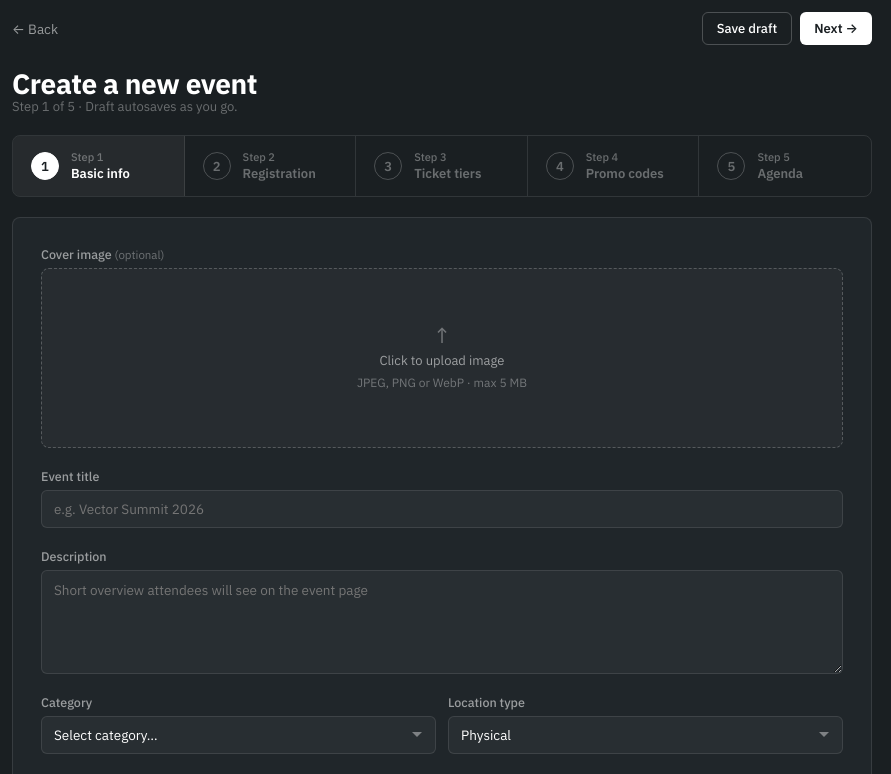
Test: CreateEvent › shows error flash when description is missing
Type "My Event" into the field with placeholder "e.g. Vector Summit 2026".
click(442, 509); type("My Event")  # box [41,490,843,528]
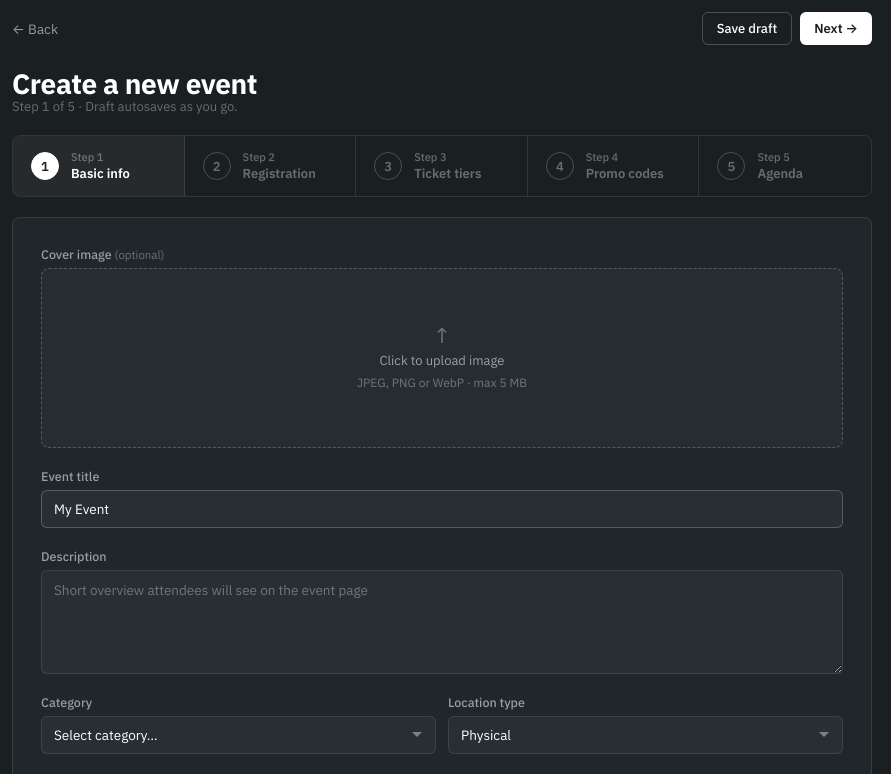
Click the button "Next →".
click(836, 28)  # box [800,12,872,45]
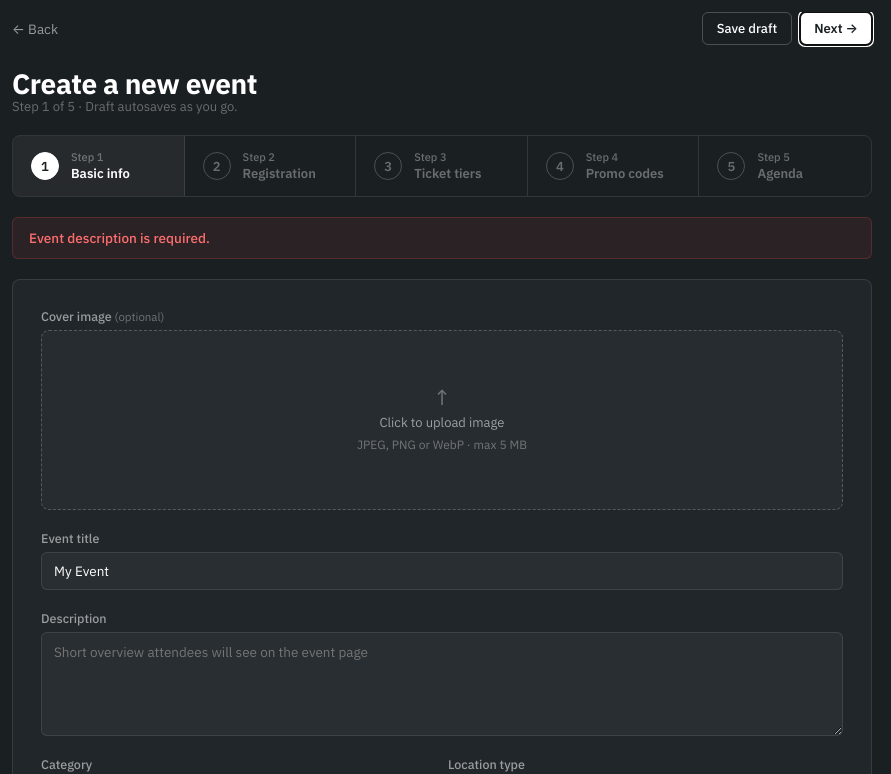
Check: the text "Event description is required." is shown, box [12,217,872,259]
